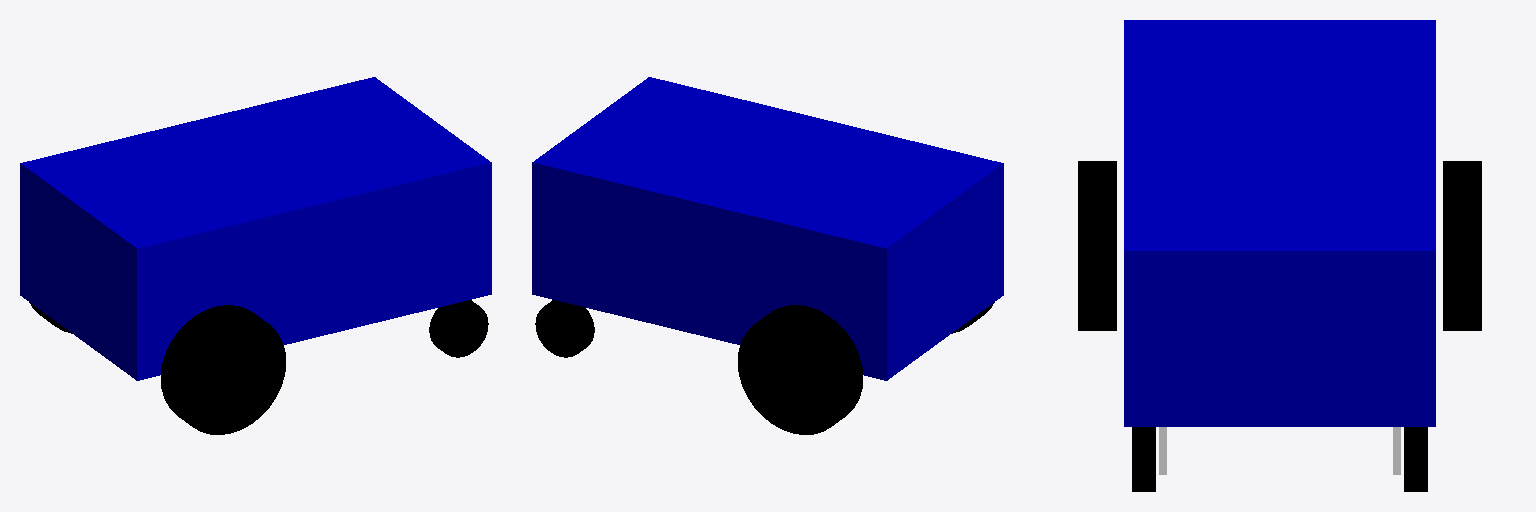
robot.urdf — lmwr:
<?xml version="1.0"?>
<robot name="lmwr">

  <!-- MATERIALS -->
  <material name="blue">
    <color rgba="0 0 0.8 1"/>
  </material>
  
  <material name="black">
    <color rgba="0 0 0 1"/>
  </material>
  
  <material name="white">
    <color rgba="1 1 1 1"/>
  </material>

  <!-- BODY -->
  <link name="main_body">
    <visual>
      <geometry>
        <box size="0.7 0.4 0.25"/>
      </geometry>
      <material name="blue"/>
    </visual>
    <collision>
      <geometry>
        <box size="0.7 0.4 0.25"/>
      </geometry>
    </collision>
    <inertial>
      <mass value="13"/>
      <inertia ixx="1.0" ixy="0.0" ixz="0.0" iyy="1.0" iyz="0.0" izz="1.0"/>
    </inertial>
  </link>

  <!-- FRONT WHEELS -->
  <!-- RIGHT FRONT WHEEL -->
  <link name="right_front_support">
    <visual>
      <geometry>
        <box size="0.05 0.01 0.08"/>
      </geometry>
      <origin xyz="0 0 -0.04"/>
      <material name="white"/>
    </visual>
    <collision>
      <geometry>
        <box size="0.05 0.01 0.08"/>
      </geometry>
      <origin xyz="0 0 -0.04"/>
    </collision>
    <inertial>
      <mass value="0.2"/>
      <inertia ixx="1.0" ixy="0.0" ixz="0.0" iyy="1.0" iyz="0.0" izz="1.0"/>
    </inertial>
  </link>
  <joint name="right_front_base_joint" type="continuous">
    <axis rpy="0 0 0" xyz="0 0 1"/>
    <parent link="main_body"/>
    <child link="right_front_support"/>
    <origin xyz="0.3 0.15 -0.125"/>
  </joint>

  <link name="right_front_wheel">
    <visual>
      <origin rpy="1.57075 0 0" xyz="0 0.015 0"/>
      <geometry>
        <cylinder length="0.03" radius="0.05"/>
      </geometry>
      <material name="black">
        <color rgba="0 0 0 1"/>
      </material>
    </visual>
    <collision>
      <origin rpy="1.57075 0 0" xyz="0 0.015 0"/>
      <geometry>
        <cylinder length="0.03" radius="0.05"/>
      </geometry>
    </collision>
    <inertial>
      <mass value="0.5"/>
      <inertia ixx="1.0" ixy="0.0" ixz="0.0" iyy="1.0" iyz="0.0" izz="1.0"/>
    </inertial>
  </link>

  <joint name="right_front_wheel_joint" type="continuous">
    <axis rpy="0 0 0" xyz="0 1 0"/>
    <parent link="right_front_support"/>
    <child link="right_front_wheel"/>
    <origin rpy="0 0 0" xyz="0 0.01 -0.06"/>
  </joint>

  <!-- LEFT FRONT WHEEL -->
  <link name="left_front_support">
    <visual>
      <geometry>
        <box size="0.05 0.01 0.08"/>
      </geometry>
      <origin xyz="0 0 -0.04"/>
      <material name="white"/>
    </visual>
    <collision>
      <geometry>
        <box size="0.05 0.01 0.08"/>
      </geometry>
      <origin xyz="0 0 -0.04"/>
    </collision>
    <inertial>
      <mass value="0.2"/>
      <inertia ixx="1.0" ixy="0.0" ixz="0.0" iyy="1.0" iyz="0.0" izz="1.0"/>
    </inertial>
  </link>
  <joint name="left_front_base_joint" type="continuous">
    <axis rpy="0 0 0" xyz="0 0 1"/>
    <parent link="main_body"/>
    <child link="left_front_support"/>
    <origin xyz="0.3 -0.15 -0.125"/>
  </joint>

  <link name="left_front_wheel">
    <visual>
      <origin rpy="1.57075 0 0" xyz="0 -0.015 0"/>
      <geometry>
        <cylinder length="0.03" radius="0.05"/>
      </geometry>
      <material name="black">
        <color rgba="0 0 0 1"/>
      </material>
    </visual>
    <collision>
      <origin rpy="1.57075 0 0" xyz="0 -0.025 0"/>
      <geometry>
        <cylinder length="0.03" radius="0.05"/>
      </geometry>
    </collision>
    <inertial>
      <mass value="0.5"/>
      <inertia ixx="1.0" ixy="0.0" ixz="0.0" iyy="1.0" iyz="0.0" izz="1.0"/>
    </inertial>
  </link>

  <joint name="left_front_wheel_joint" type="continuous">
    <axis rpy="0 0 0" xyz="0 1 0"/>
    <parent link="left_front_support"/>
    <child link="left_front_wheel"/>
    <origin rpy="0 0 0" xyz="0 -0.01 -0.06"/>
  </joint>

  <!-- RIGHT TRACTION WHEEL -->
  <link name="right_traction_wheel">
    <visual>
      <geometry>
        <cylinder length="0.05" radius="0.11"/>
      </geometry>
      <origin rpy="1.57075 0 0" xyz="0 0.025 0"/>
      <material name="black">
        <color rgba="0 0 0 1"/>
      </material>
    </visual>
    <collision>
      <geometry>
        <cylinder length="0.05" radius="0.11"/>
      </geometry>
      <origin rpy="1.57075 0 0" xyz="0 0.025 0"/>
    </collision>
    <inertial>
      <mass value="1"/>
      <inertia ixx="1.0" ixy="0.0" ixz="0.0" iyy="1.0" iyz="0.0" izz="1.0"/>
    </inertial>
  </link>
  <joint name="right_traction_wheel_joint" type="continuous">
    <axis rpy="0 0 0" xyz="0 1 0"/>
    <parent link="main_body"/>
    <child link="right_traction_wheel"/>
    <origin xyz="-0.2 0.21 -0.125"/>
  </joint>

  <!-- LEFT TRACTION WHEEL -->
  <link name="left_traction_wheel">
    <visual>
      <geometry>
        <cylinder length="0.05" radius="0.11"/>
      </geometry>
      <origin rpy="1.57075 0 0" xyz="0 -0.025 0"/>
      <material name="black">
        <color rgba="0 0 0 1"/>
      </material>
    </visual>
    <collision>
      <geometry>
        <cylinder length="0.05" radius="0.11"/>
      </geometry>
      <origin rpy="1.57075 0 0" xyz="0 -0.025 0"/>
    </collision>
    <inertial>
      <mass value="1"/>
      <inertia ixx="1.0" ixy="0.0" ixz="0.0" iyy="1.0" iyz="0.0" izz="1.0"/>
    </inertial>
  </link>
  <joint name="left_traction_wheel_joint" type="continuous">
    <axis rpy="0 0 0" xyz="0 1 0"/>
    <parent link="main_body"/>
    <child link="left_traction_wheel"/>
    <origin xyz="-0.2 -0.21 -0.125"/>
  </joint>

  <!-- Gazebo plugin for ROS Control -->
  <gazebo>
    <plugin name="gazebo_ros_control" filename="libgazebo_ros_control.so">
      <robotNamespace>/</robotNamespace>
    </plugin>
  </gazebo> 

</robot>

--- Facts derived from the render (not from the file) ---
The picture shows the robot from 3 angles, left to right: view 1: azimuth 30°, elevation 25°; view 2: azimuth 150°, elevation 25°; view 3: azimuth 270°, elevation 25°; orthographic projection.
Model lmwr with 7 links and 6 joints (6 continuous), rooted at main_body, posed all joints at 0.
Links seen in each view (by area): view 1: main_body, left_traction_wheel, left_front_wheel; view 2: main_body, right_traction_wheel, right_front_wheel; view 3: main_body, right_traction_wheel, left_traction_wheel, right_front_wheel, left_front_wheel.
Link boxes in pixels (x1,y1,x2,y2): main_body: (20, 77, 491, 380); left_traction_wheel: (161, 305, 285, 434); left_front_wheel: (429, 300, 488, 357); main_body: (532, 77, 1003, 380); right_traction_wheel: (738, 305, 862, 434); right_front_wheel: (535, 300, 594, 357); main_body: (1124, 20, 1435, 426); right_traction_wheel: (1443, 161, 1481, 330); left_traction_wheel: (1078, 161, 1116, 330); right_front_wheel: (1404, 427, 1427, 491); left_front_wheel: (1132, 427, 1155, 491).
Bounding box of the posed robot: 0.7 × 0.52 × 0.36 m (x, y, z).
Geometry: primitives only (box / cylinder / sphere), no mesh files.
